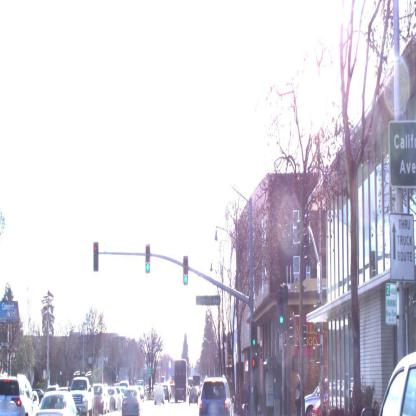bus: (200, 378, 230, 415), (174, 358, 188, 405)
car: (0, 377, 31, 416), (34, 392, 82, 416), (92, 384, 110, 415), (121, 388, 140, 415), (189, 385, 199, 408), (153, 387, 164, 406), (193, 372, 201, 397), (163, 383, 171, 401), (147, 366, 152, 378)
sign: (195, 293, 221, 308)
traffic light: (276, 287, 287, 336), (250, 318, 259, 353), (145, 245, 152, 274), (94, 243, 100, 274), (183, 258, 189, 286), (252, 354, 258, 370)
truck: (70, 375, 95, 414)
